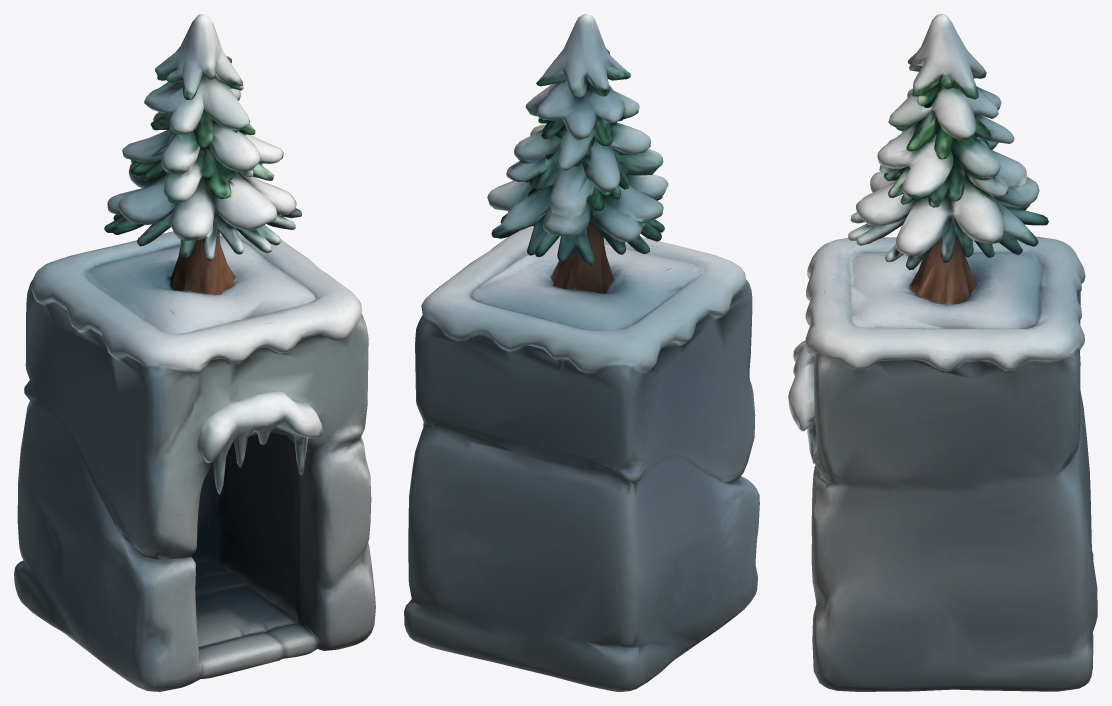
3 renders of one model, left to right at view 1: azimuth 30°, elevation 25°; view 2: azimuth 150°, elevation 25°; view 3: azimuth 270°, elevation 25°, orthographic. The views are drawn at different scales.
Parts seen in each view (by area): view 1: world; view 2: world; view 3: world.
Part boxes in pixels (x1,y1,x2,y2): world: [14, 14, 375, 691]; world: [404, 14, 759, 691]; world: [788, 14, 1097, 691].
Size of the model in its own units: 0.4083 by 1 by 0.4501.
1 material, 1 textured.
